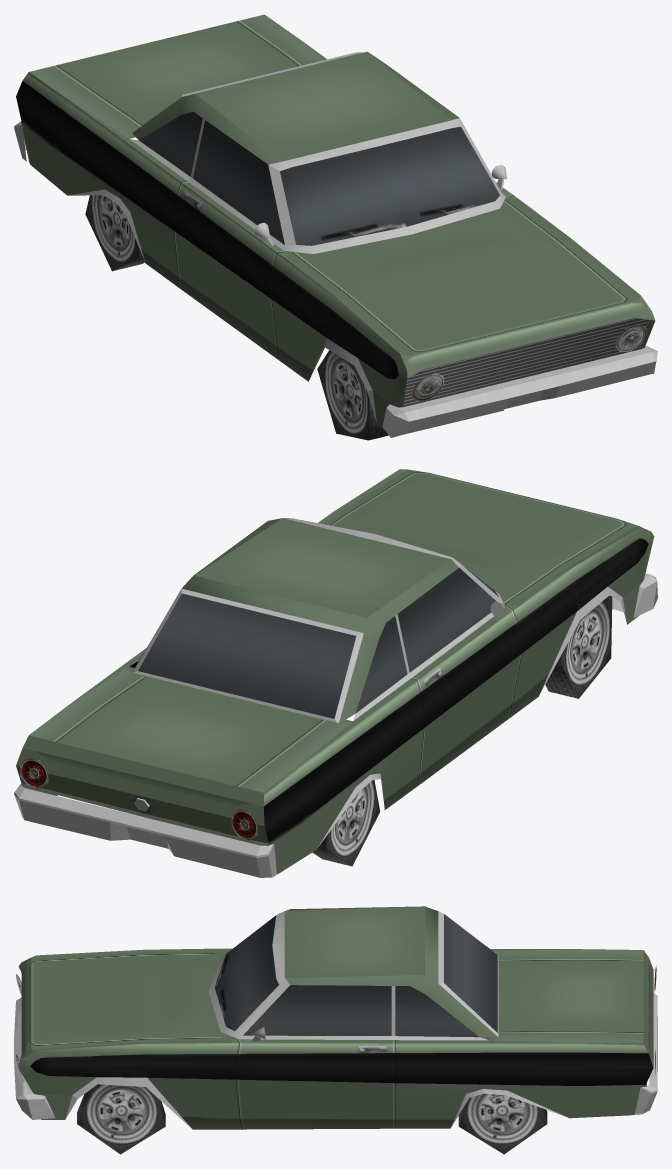
The model's file is ClassicStreetRod_LOD2.fbx.
The picture shows the model from 3 angles, top to bottom: view 1: azimuth 30°, elevation 25°; view 2: azimuth 150°, elevation 25°; view 3: azimuth 270°, elevation 25°; orthographic projection. The views are drawn at different scales.
Parts seen in each view (by area): view 1: Chassis, FR_Wheel, RR_Wheel; view 2: Chassis, FR_Wheel, RR_Wheel; view 3: Chassis, LF_Wheel, LR_Wheel.
Boxes of the visible parts, x1,y1,x2,y2 form: Chassis: (14,14,657,437); FR_Wheel: (317,350,388,440); RR_Wheel: (85,195,144,271); Chassis: (14,469,657,877); FR_Wheel: (545,595,612,698); RR_Wheel: (312,780,380,866); Chassis: (14,906,657,1129); LF_Wheel: (77,1084,165,1154); LR_Wheel: (458,1093,547,1154).
Size of the model in its own units: 2.09 by 1.56 by 5.45.
